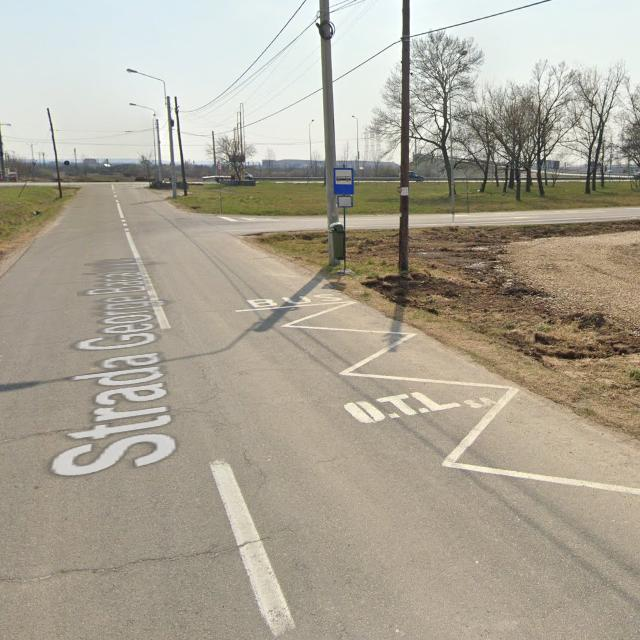info_bus_station: (334, 166, 354, 195)
